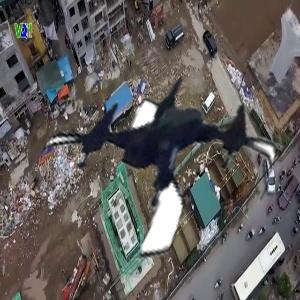drone: (49, 46, 274, 271)
